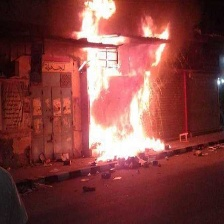fire: (76, 1, 171, 161)
